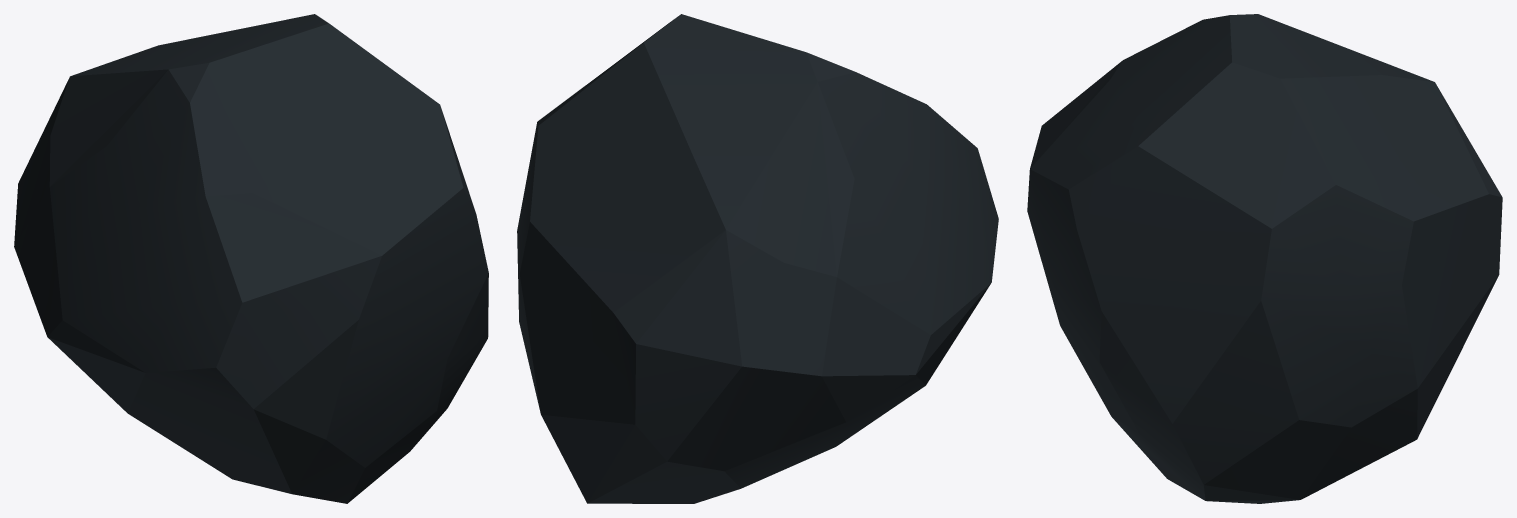
File: Asteroid_s_04.FBX
The picture shows the model from 3 angles, left to right: view 1: azimuth 30°, elevation 25°; view 2: azimuth 150°, elevation 25°; view 3: azimuth 270°, elevation 25°; orthographic projection. The views are drawn at different scales.
Visible parts, largest first — view 1: Asteroid_s_04; view 2: Asteroid_s_04; view 3: Asteroid_s_04.
Boxes of the visible parts, <box> form: Asteroid_s_04: <box>14,14,488,503</box>; Asteroid_s_04: <box>517,14,998,503</box>; Asteroid_s_04: <box>1027,14,1502,503</box>.
Bounding box in the file's own units: 161 × 182 × 181.
